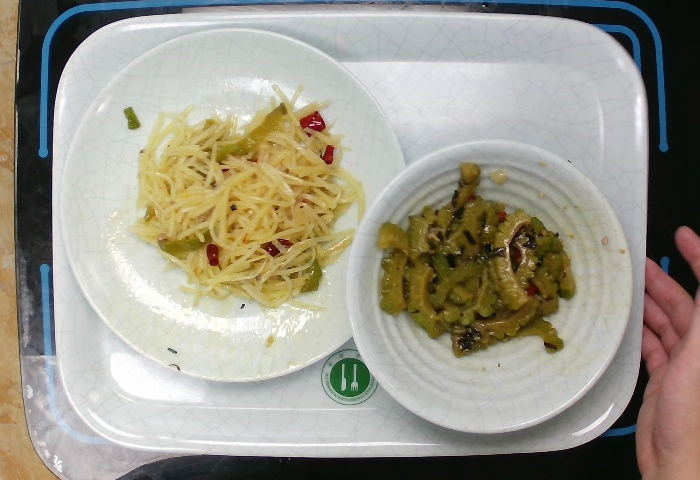JYsf-Da_Yuan_Pan: (56, 25, 412, 387)
JYsf-Xiao_Tang_Wan: (337, 132, 639, 440)
